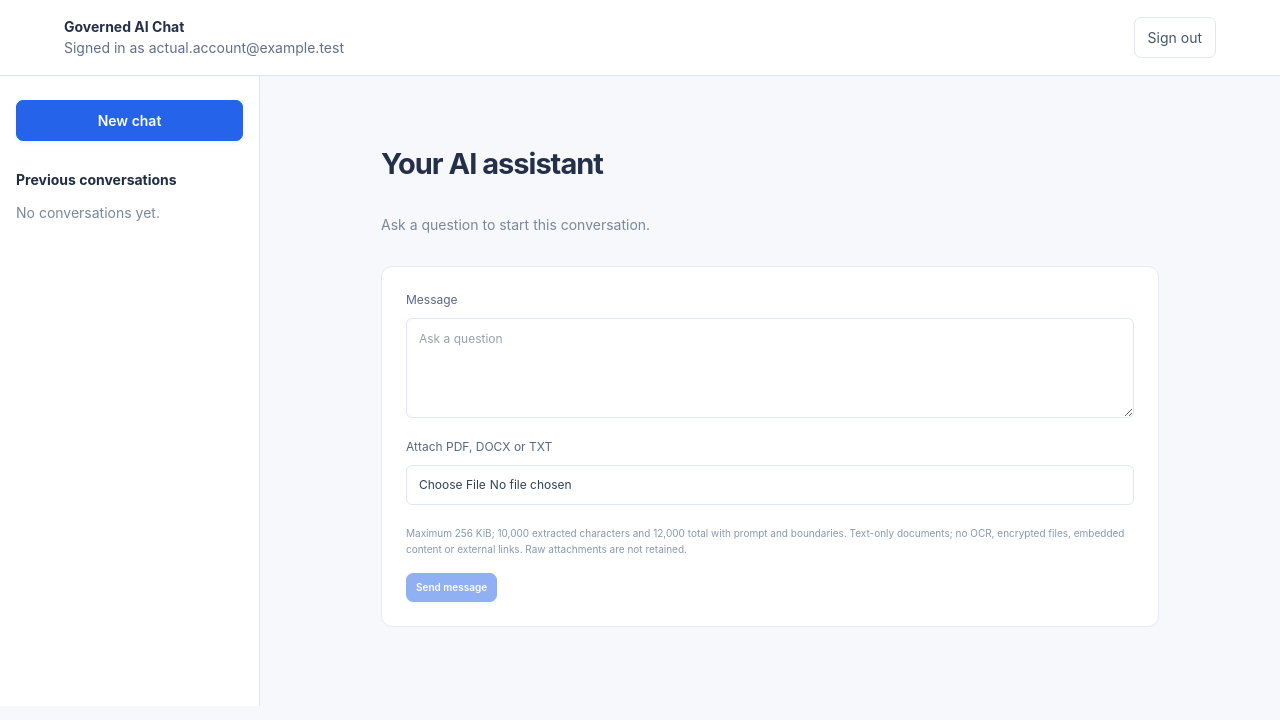
Test: shows a simple BLOCK conversation without technical cards or IDs
(page scrolled)
Expected: the text "No conversations yet." is shown, [16,204,160,221]
Type "Sensitive test prompt" into the text box labelled "Message" at [770, 368], box [406,318,1134,418]
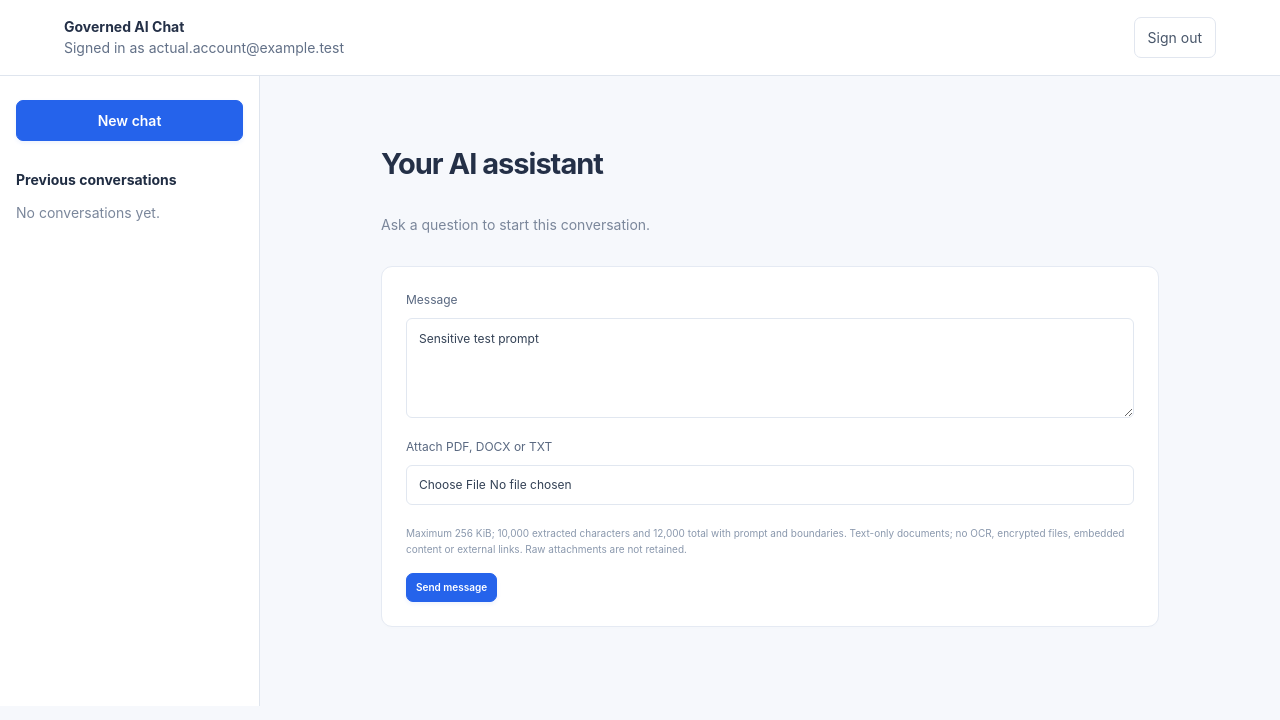
Click the button "Send message" at [452, 588], box [406,573,497,602]
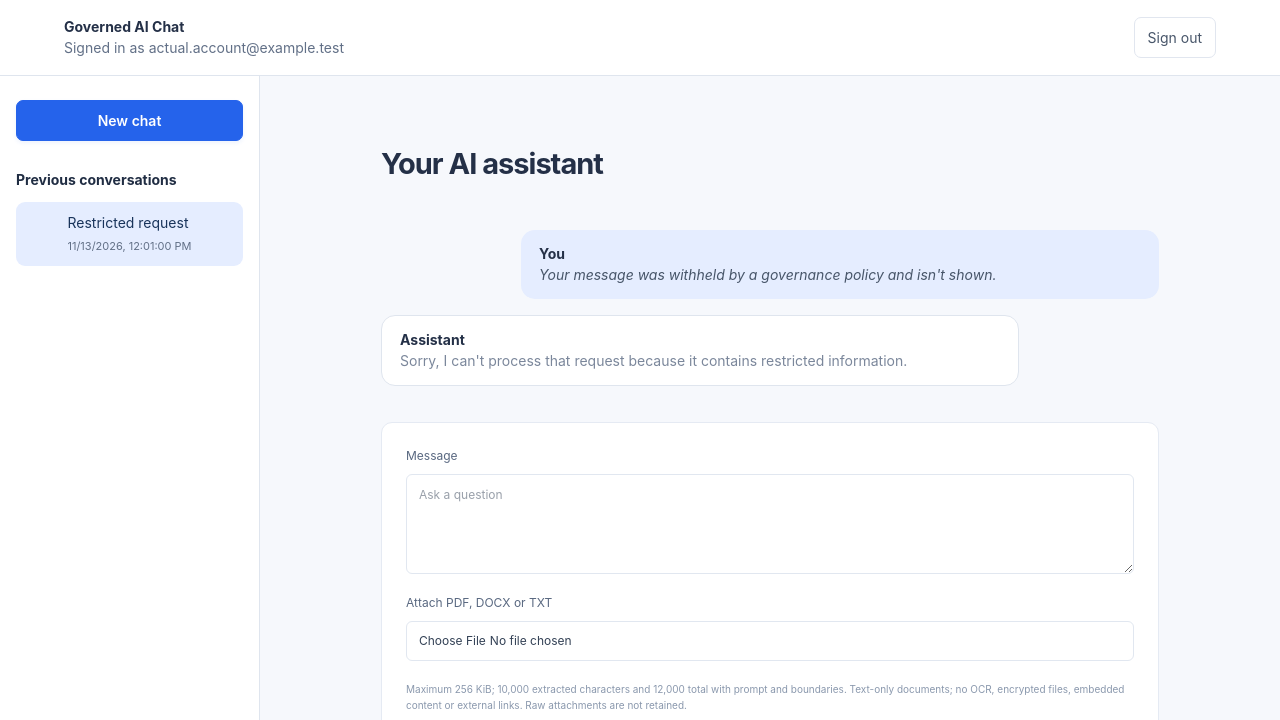
Expected: the text "Sensitive test prompt" is not shown
Now the text "restricted information" is shown, box [400,352,907,369]
